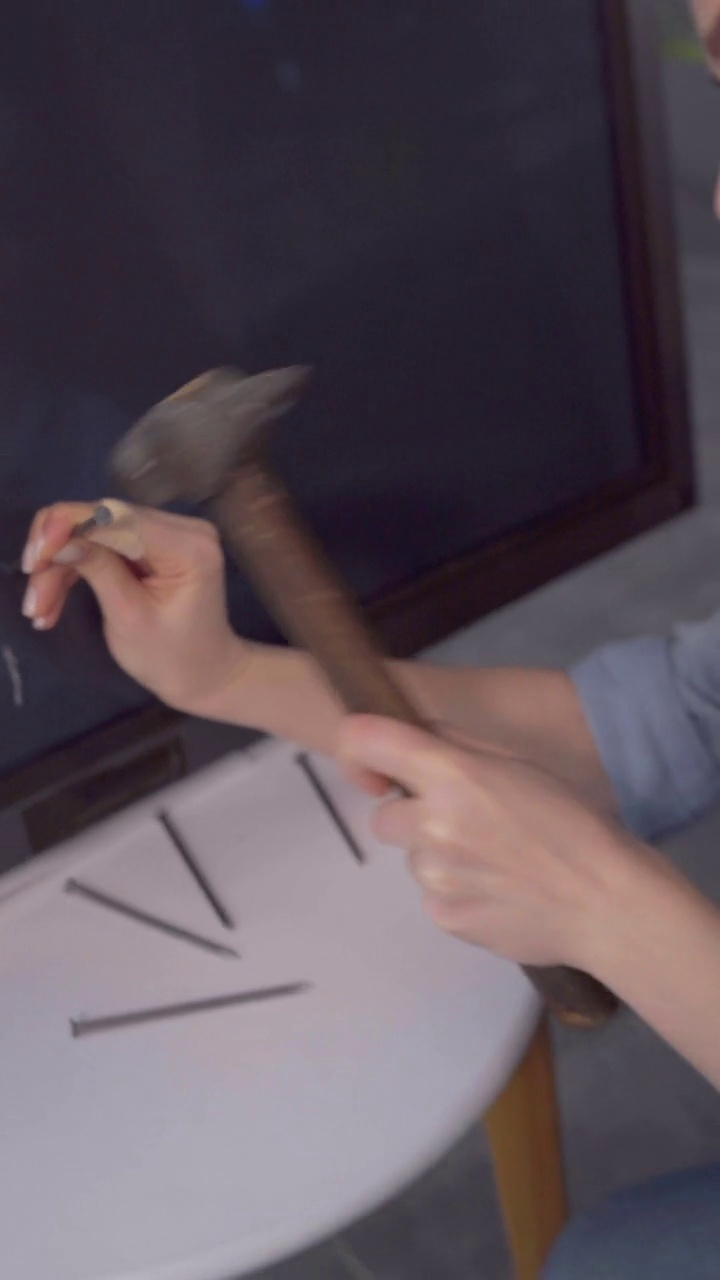hammer: (109, 353, 621, 1050)
